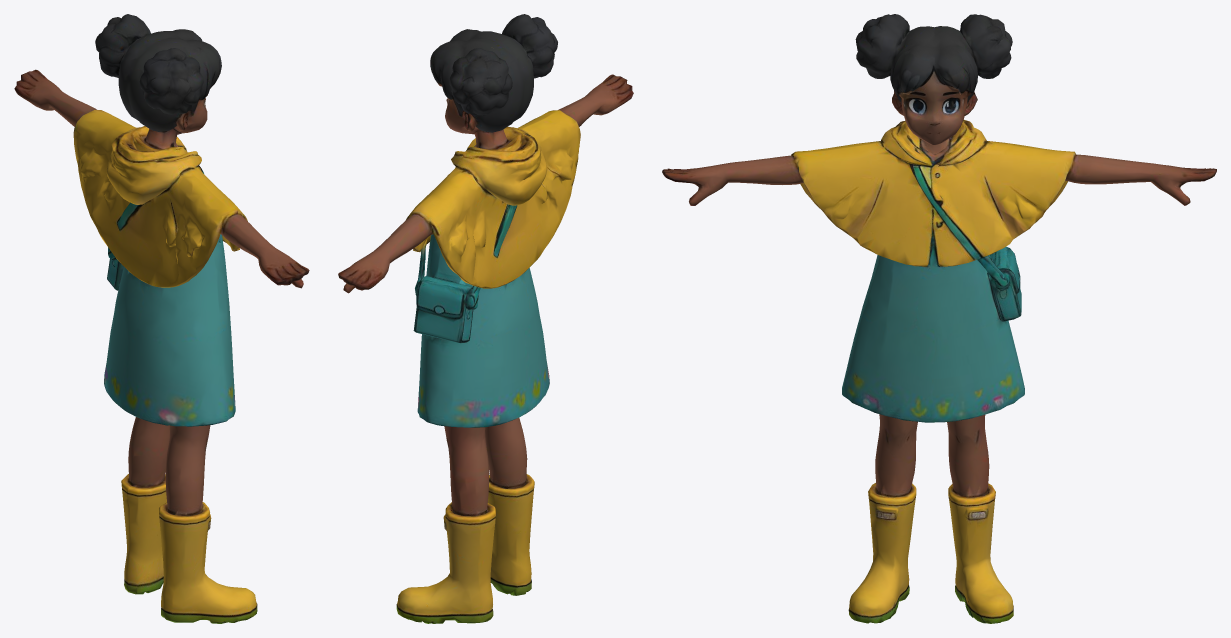
Rendered from n2_pupil.94159f26.glb.
3 renders of one model, left to right at view 1: azimuth 30°, elevation 25°; view 2: azimuth 150°, elevation 25°; view 3: azimuth 270°, elevation 25°, orthographic.
Parts seen in each view (by area): view 1: tripo_node_5cb26ae0-b1a8-4570-9988-48e3fc14f94a; view 2: tripo_node_5cb26ae0-b1a8-4570-9988-48e3fc14f94a; view 3: tripo_node_5cb26ae0-b1a8-4570-9988-48e3fc14f94a.
Part boxes in pixels (bbox=[...]): tripo_node_5cb26ae0-b1a8-4570-9988-48e3fc14f94a: bbox=[14, 14, 309, 623]; tripo_node_5cb26ae0-b1a8-4570-9988-48e3fc14f94a: bbox=[338, 14, 633, 623]; tripo_node_5cb26ae0-b1a8-4570-9988-48e3fc14f94a: bbox=[662, 14, 1216, 623].
Bounding box in the file's own units: 0.1922 × 1 × 0.8738.
Materials: 1 (1 with a texture image).
